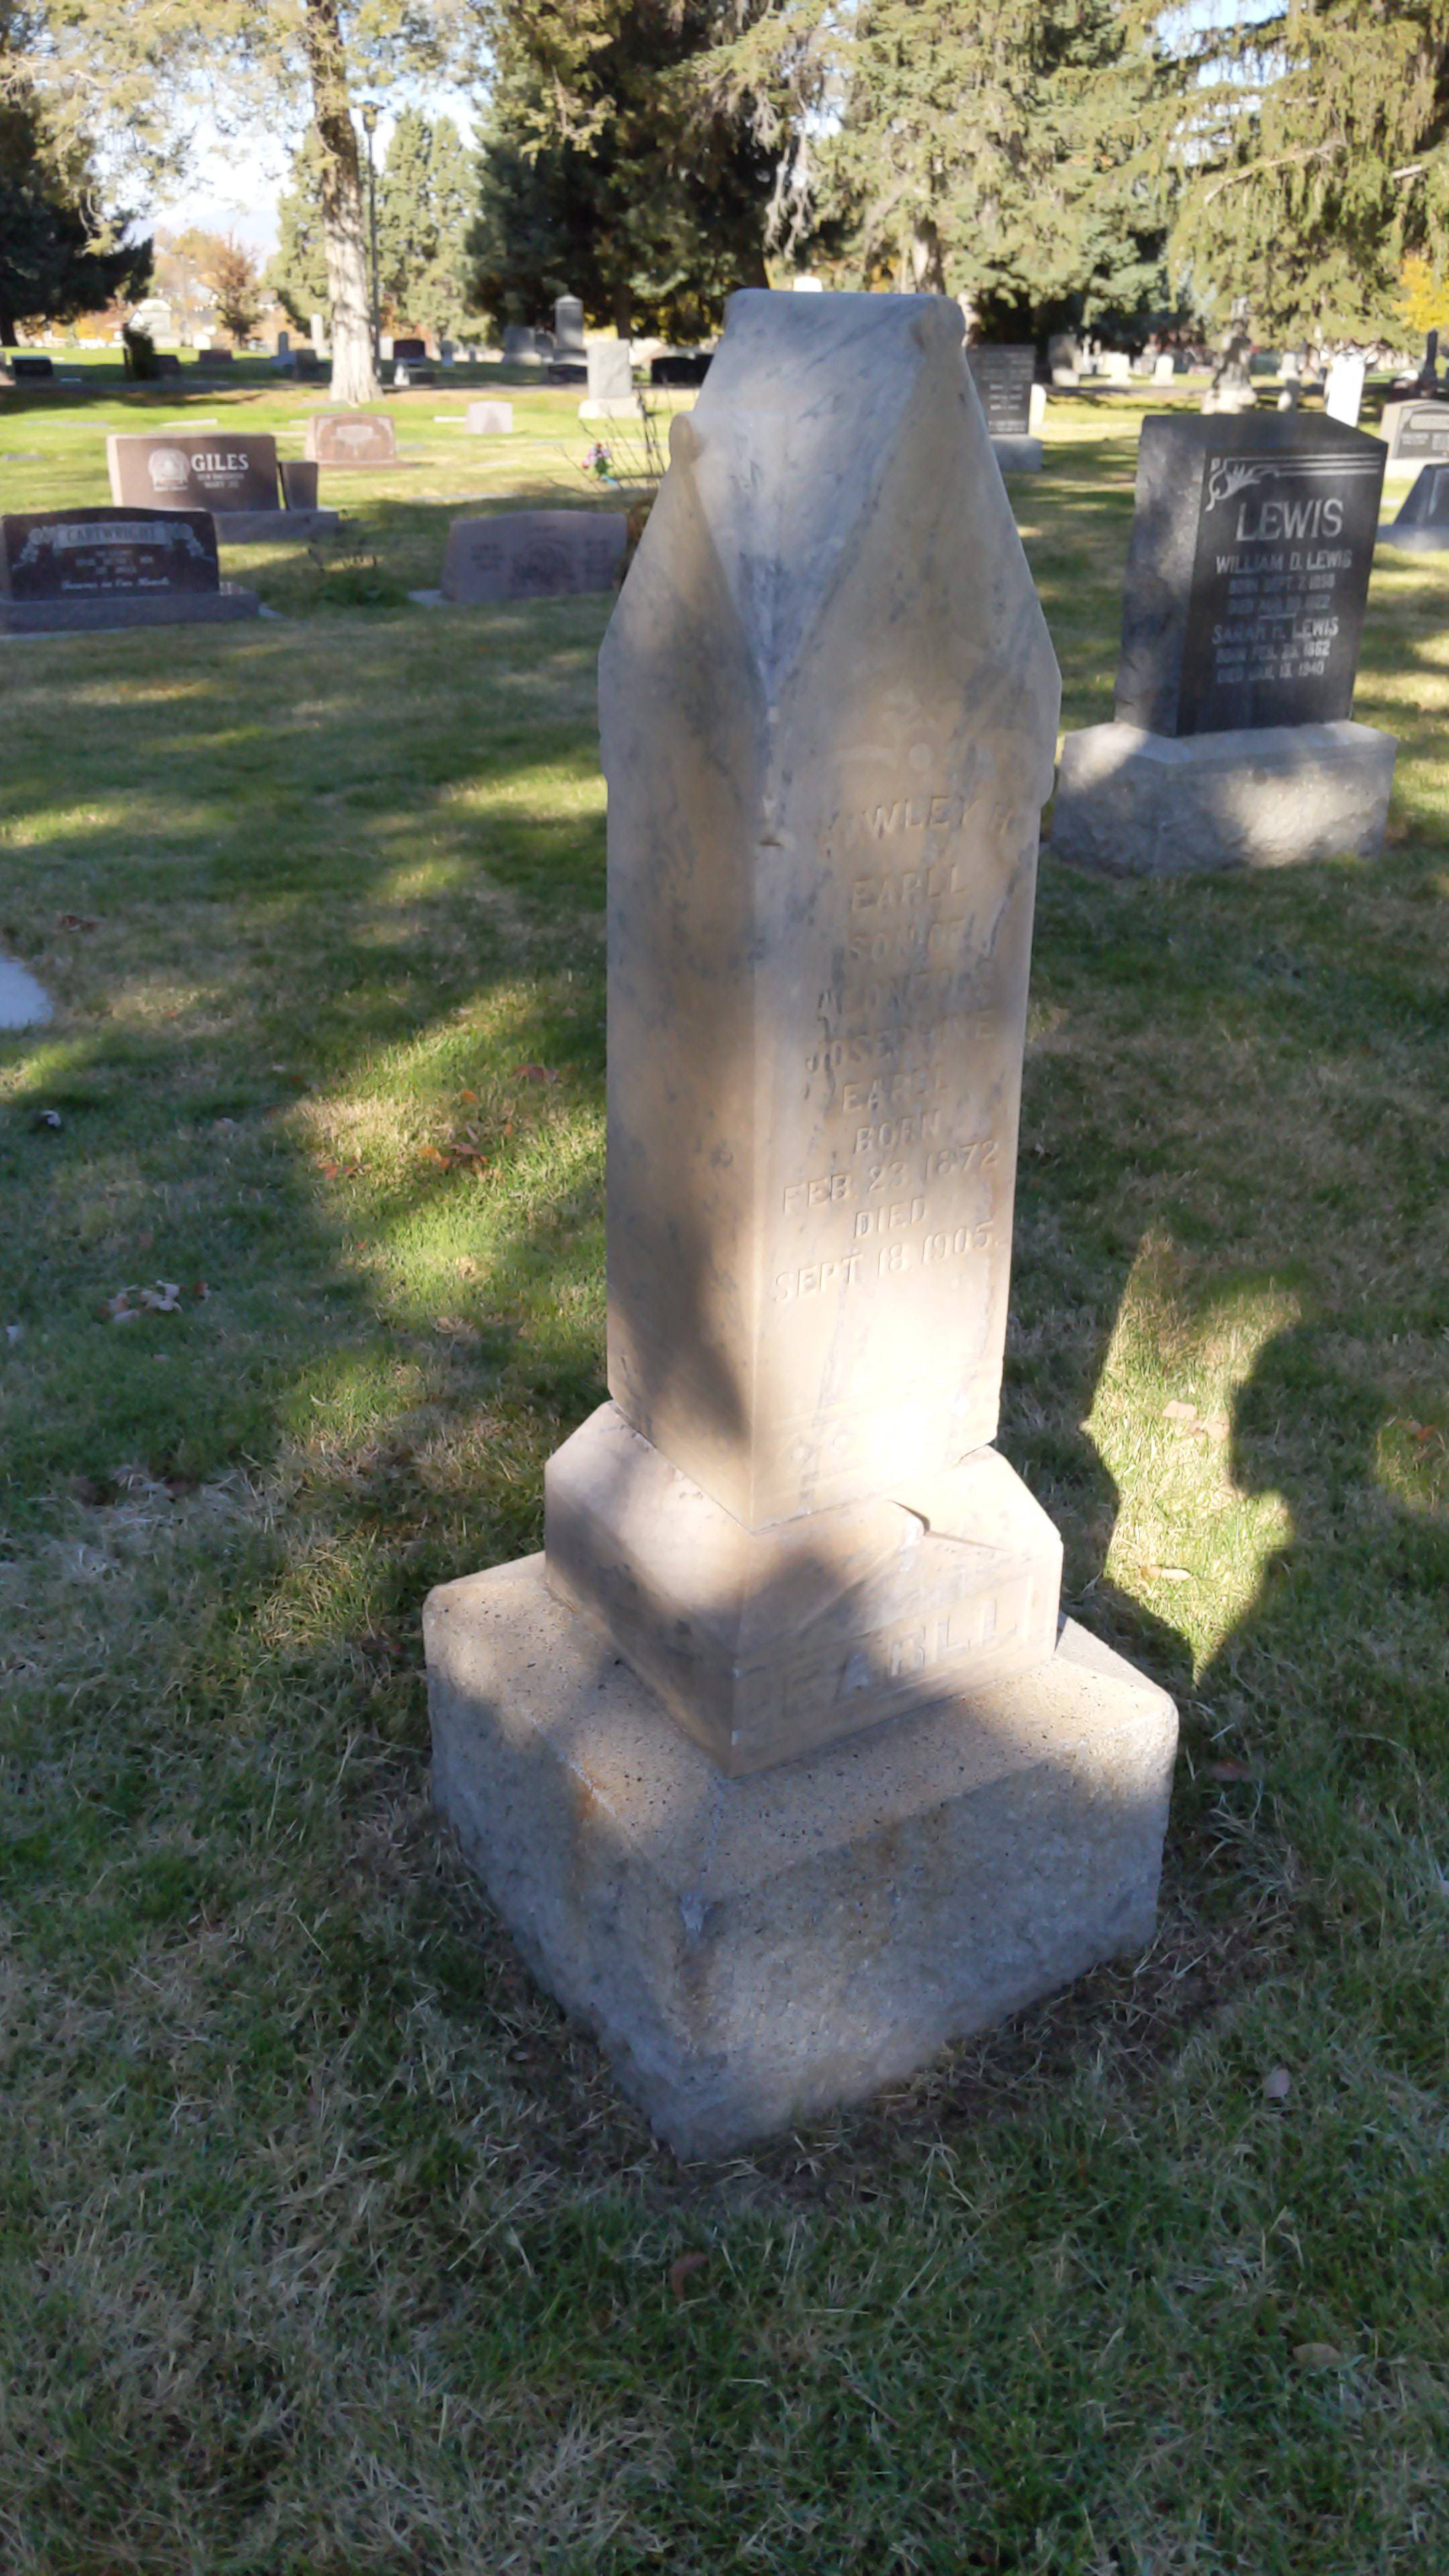obelisk: (556, 292, 1056, 1790)
